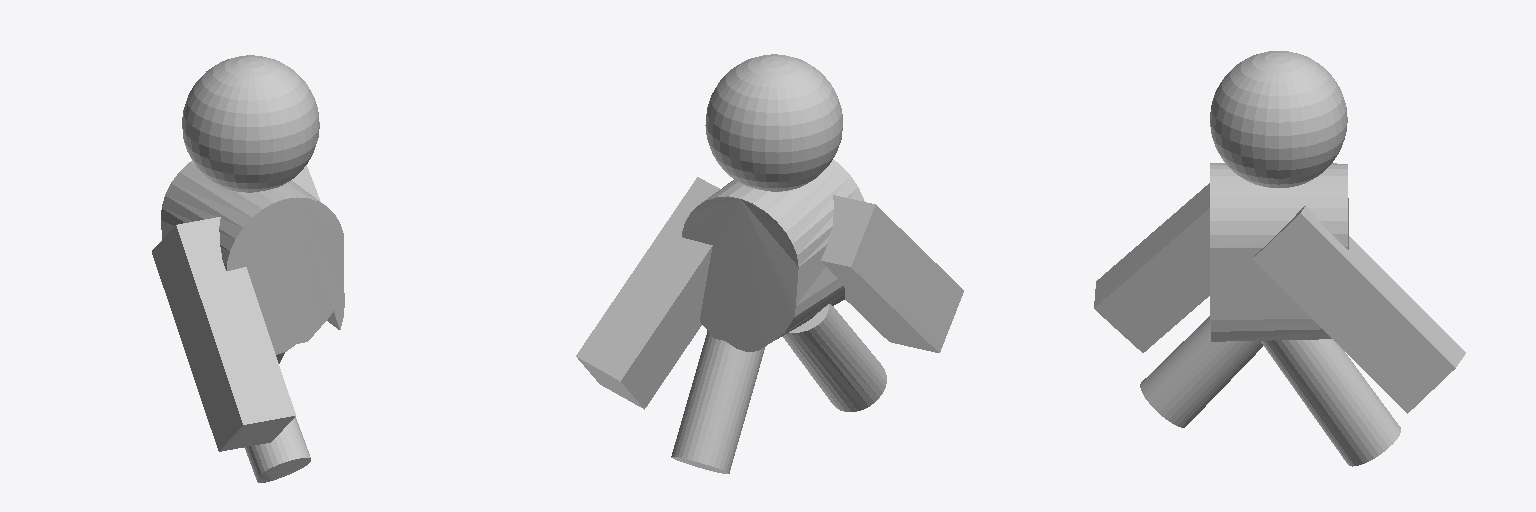
The model's file is Figurine116.obj.
The picture shows the model from 3 angles: view 1: azimuth 30°, elevation 25°; view 2: azimuth 150°, elevation 25°; view 3: azimuth 270°, elevation 25°; orthographic projection.
Parts seen in each view (by area): view 1: Cylinder; view 2: Cylinder; view 3: Cylinder.
Part boxes in pixels (x1,y1,x2,y2): Cylinder: (152,55,344,482); Cylinder: (576,54,963,473); Cylinder: (1094,51,1465,466).
Bounding box in the file's own units: 3.49 × 6.27 × 5.39.